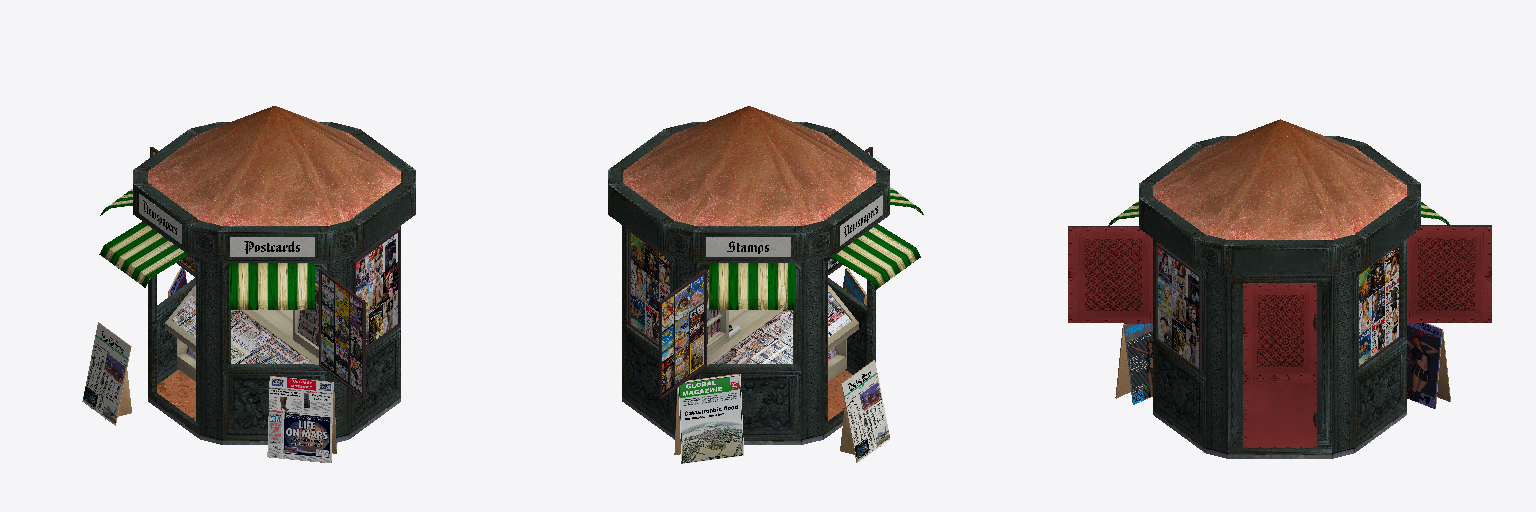
3 views of the same model, side by side, from view 1: azimuth 30°, elevation 25°; view 2: azimuth 150°, elevation 25°; view 3: azimuth 270°, elevation 25° (orthographic).
Parts seen in each view (by area): view 1: Figure_1; view 2: Figure_1; view 3: Figure_1.
Boxes of the visible parts, x1,y1,x2,y2 form: Figure_1: [82, 106, 415, 462]; Figure_1: [608, 106, 923, 463]; Figure_1: [1068, 119, 1491, 458].
Size of the model in its own units: 1.28 by 1.35 by 1.78.
38 materials, 38 textured.